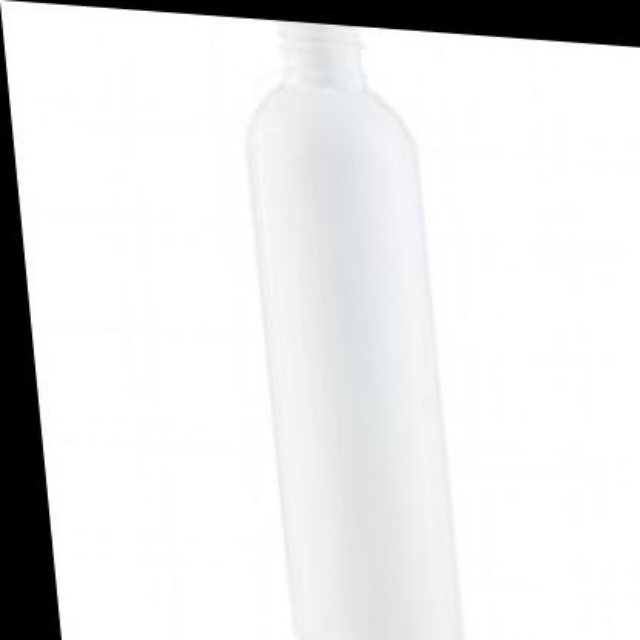trash: (248, 26, 460, 638)
